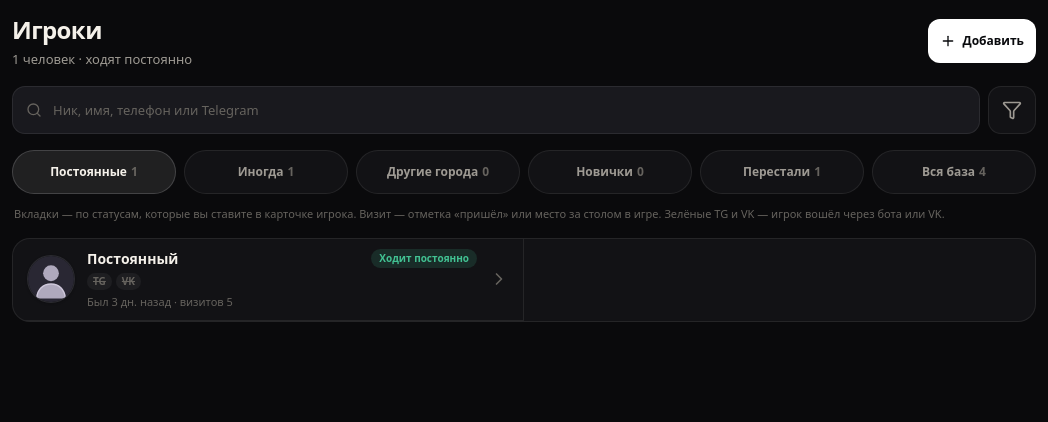
Test: PlayersActivityCRM status tabs › splits one list into the organizer status tabs without extra requests
Expected: the text "Постоянный" is shown, [87,248,178,268]
Expected: the text "Редкий" is not shown
Step 1. Click the button "Иногда1" → (266, 172), box [184,150,348,194]
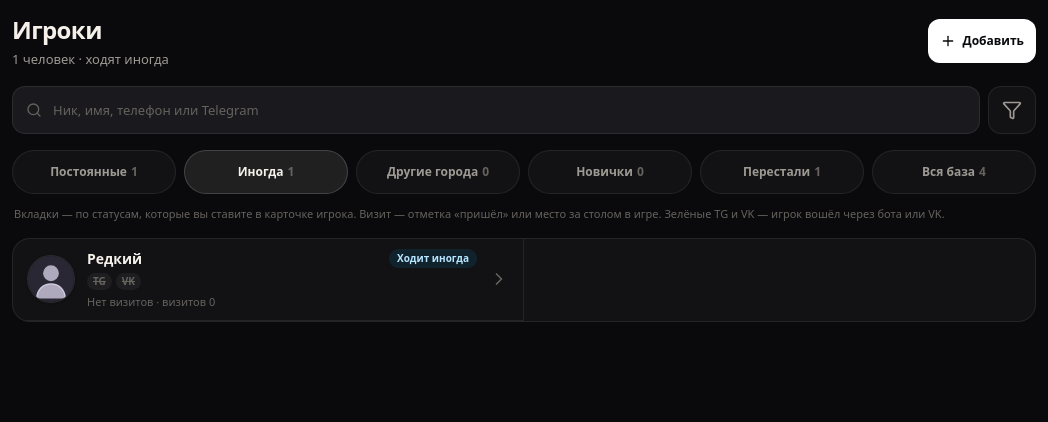
Expected: the text "Редкий" is shown, [87,248,142,268]
Expected: the button "Постоянный" is gone
Step 2. Click the button "Перестали1" → (782, 172), box [700,150,864,194]
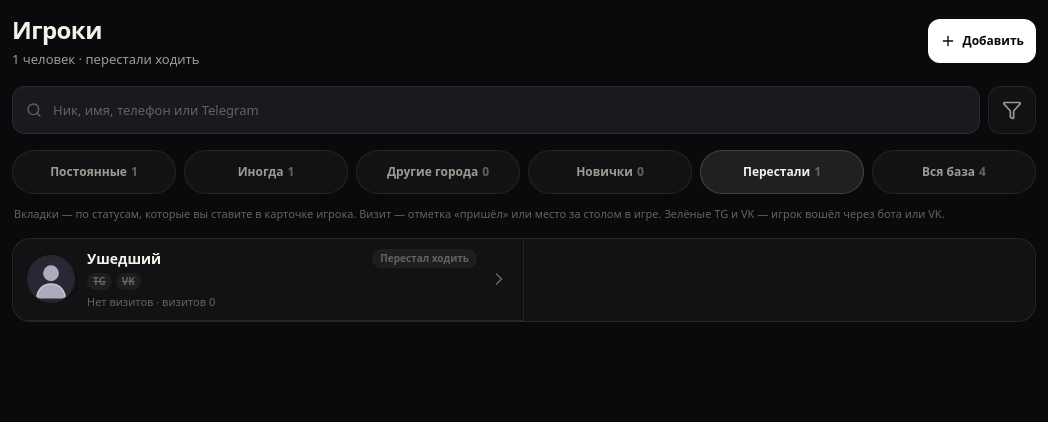
Expected: the text "Ушедший" is shown, [87,248,161,268]
Step 3. Click the button "Вся база4" → (954, 172), box [872,150,1036,194]
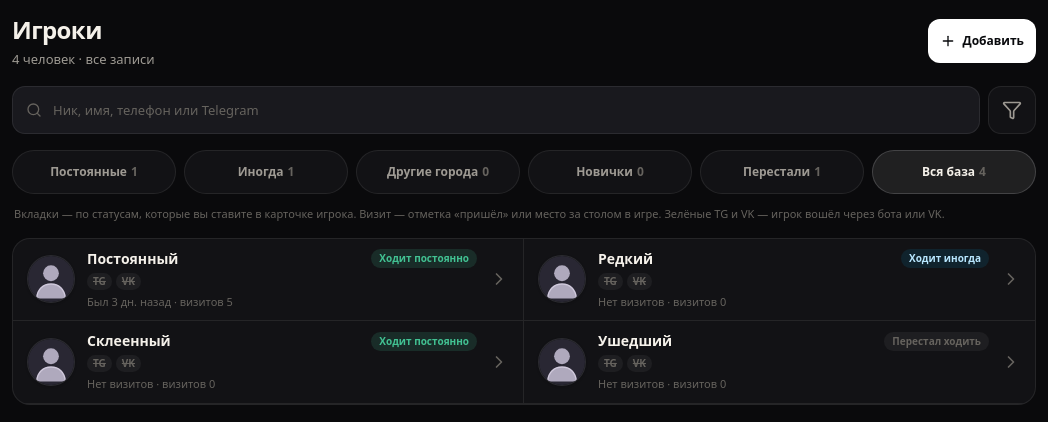
Expected: the text "Склеенный" is shown, [87,331,171,350]
